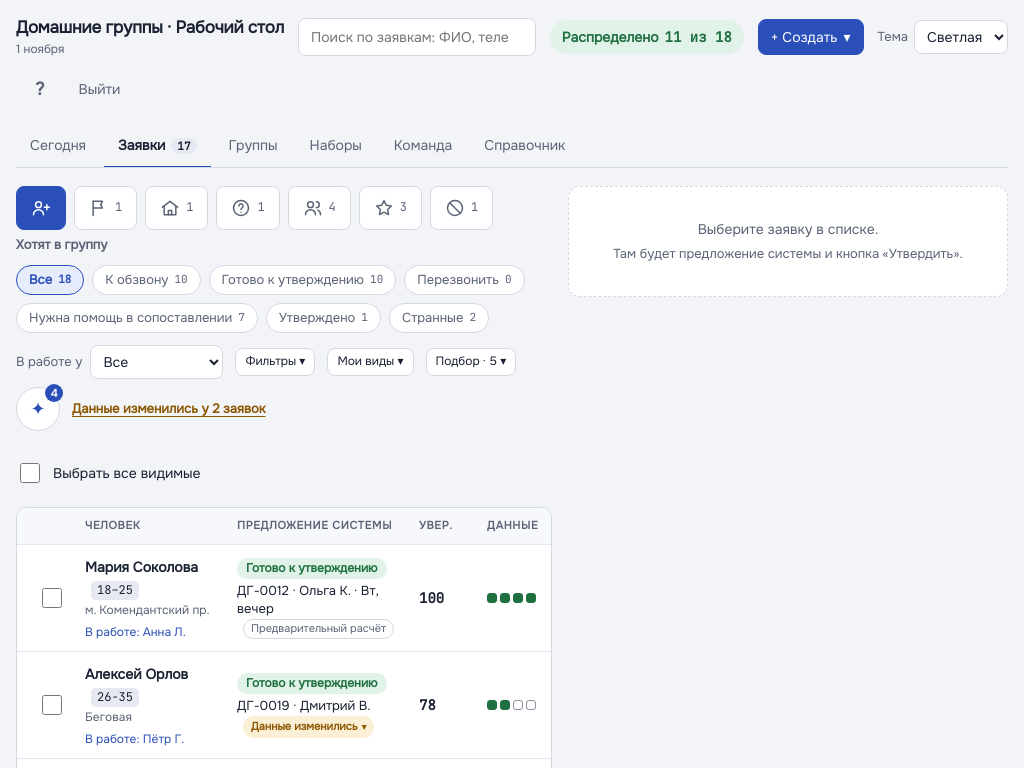
«Заявки»: подбор для новых заявок › блок напоминает, что предложение — только предложение
The image size is (1024, 768).
Click the button "Подбор · 5 ▾" at (471, 362), box left=426, top=348, right=516, bottom=376
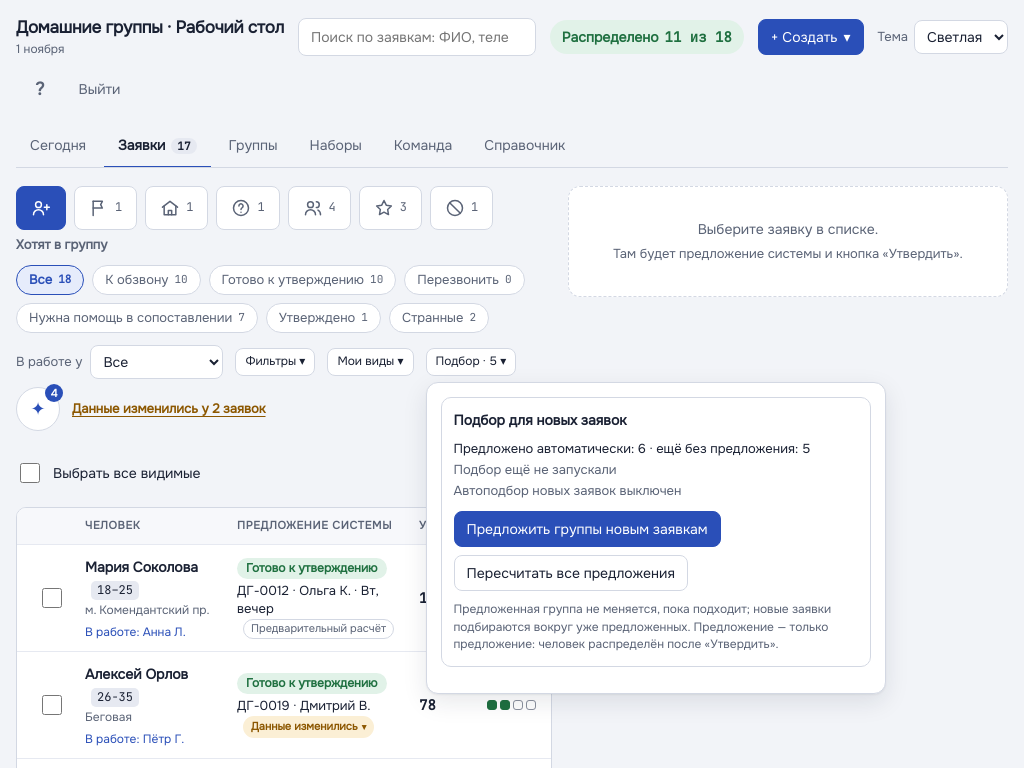
Check: the text "человек распределён после «Утвердить»" is shown, box left=454, top=601, right=831, bottom=652
